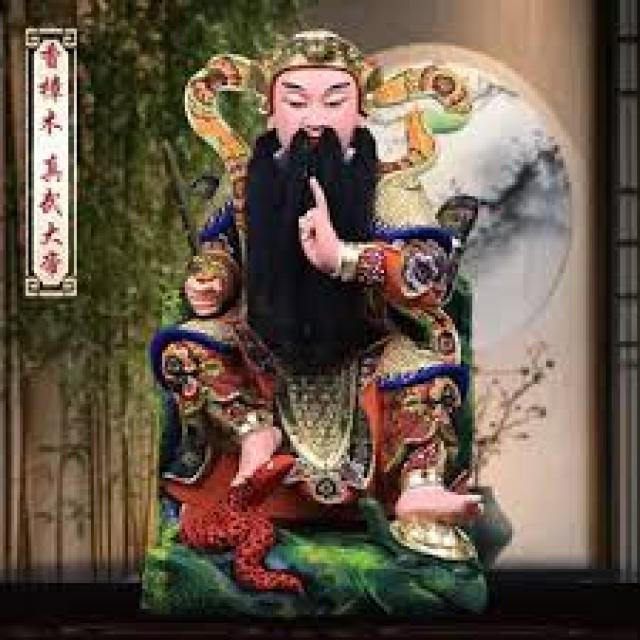Xuan wu: (170, 24, 472, 578)
